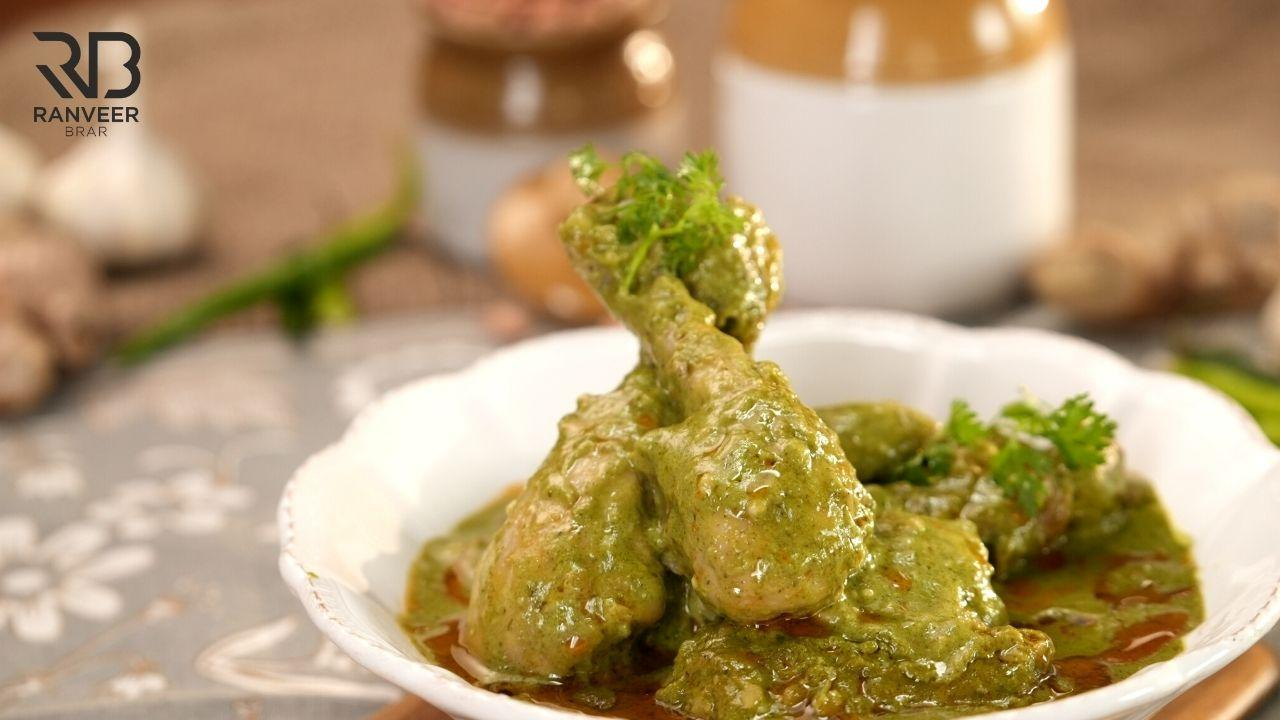chicken: (398, 163, 1158, 720)
